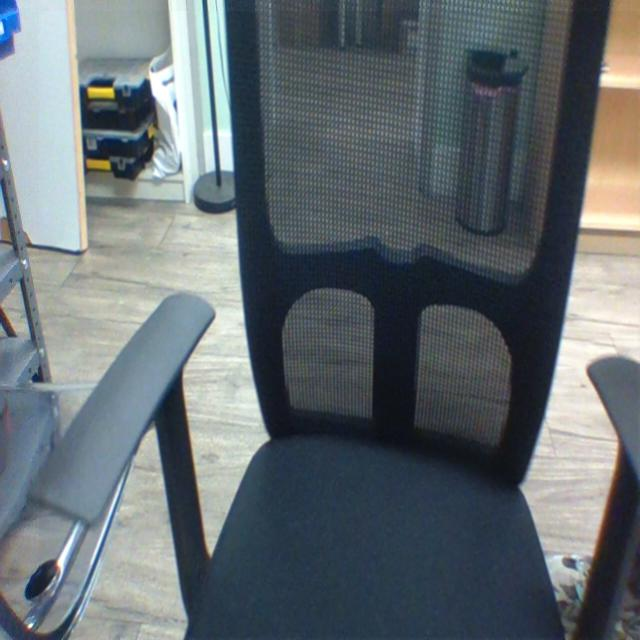black-chair: (39, 11, 639, 639)
